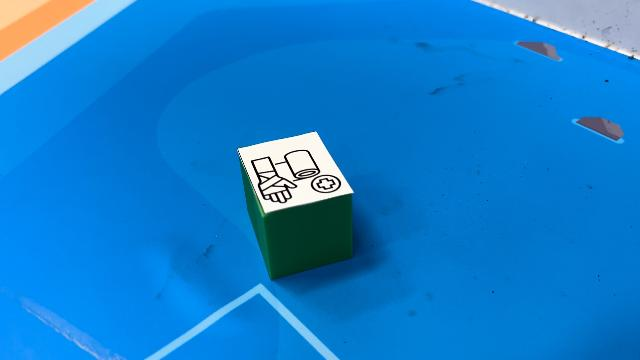bandage: (237, 130, 355, 280)
